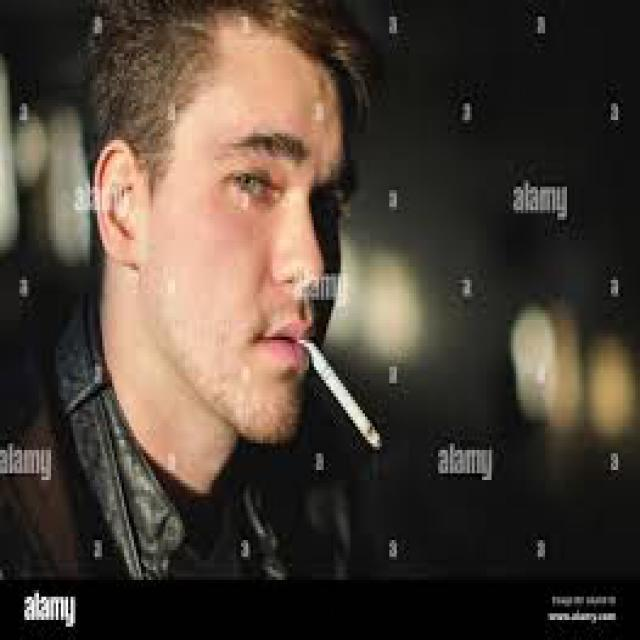smoking: (263, 317, 394, 450)
